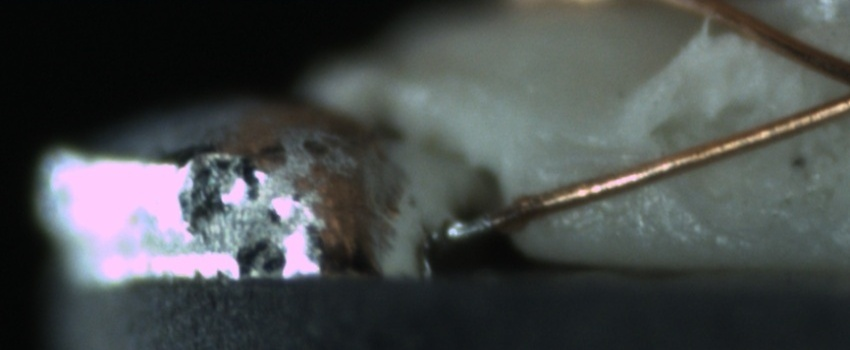DL: (516, 127, 644, 182)
TS: (435, 210, 504, 242)
